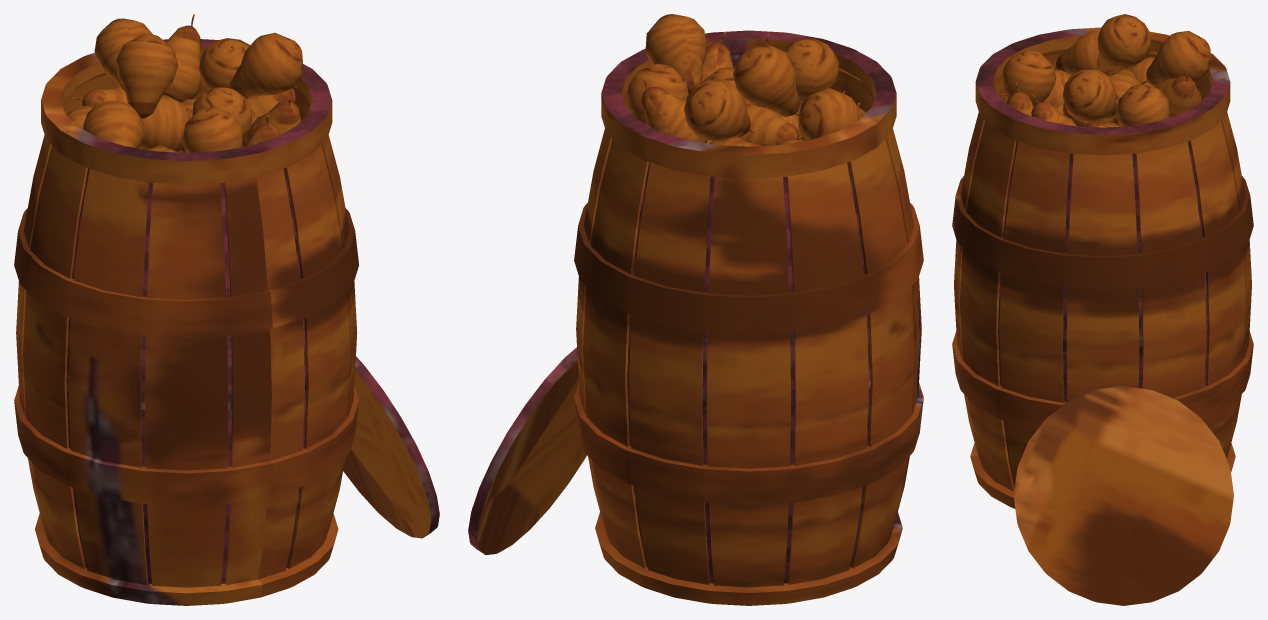
File: fruit barrel_3.fbx
3 renders of one model, left to right at view 1: azimuth 30°, elevation 25°; view 2: azimuth 150°, elevation 25°; view 3: azimuth 270°, elevation 25°, orthographic. The views are drawn at different scales.
Parts seen in each view (by area): view 1: Circle.005, Circle.006, Plane.1077, Plane.1076, Plane.1073, Plane.1075, Plane.1069, Plane.1078, Plane.1071, Plane.1074, Plane.1063, Plane.1068 (+2 smaller); view 2: Circle.005, Circle.006, Plane.1077, Plane.1074, Plane.1076, Plane.1075, Plane.1073, Plane.1069, Plane.1071, Plane.1078, Plane.1068; view 3: Circle.005, Circle.006, Plane.1077, Plane.1074, Plane.1076, Plane.1073, Plane.1071, Plane.1075, Plane.1069, Plane.1078, Plane.1068, Plane.1070 (+1 smaller).
Part boxes in pixels (<box>): Circle.005: <box>14,39,358,605</box>; Circle.006: <box>343,356,439,538</box>; Plane.1077: <box>116,34,178,130</box>; Plane.1076: <box>230,33,303,99</box>; Plane.1073: <box>182,107,242,152</box>; Plane.1075: <box>83,100,143,148</box>; Plane.1069: <box>163,14,201,102</box>; Plane.1078: <box>139,95,190,152</box>; Plane.1071: <box>199,38,250,89</box>; Plane.1074: <box>94,18,152,91</box>; Plane.1063: <box>192,87,251,138</box>; Plane.1068: <box>245,98,300,144</box>; Circle.005: <box>574,30,923,605</box>; Circle.006: <box>468,347,587,554</box>; Plane.1077: <box>733,44,800,116</box>; Plane.1074: <box>684,80,754,141</box>; Plane.1076: <box>645,14,706,93</box>; Plane.1075: <box>798,88,865,140</box>; Plane.1073: <box>783,39,839,111</box>; Plane.1069: <box>641,77,707,143</box>; Plane.1071: <box>628,63,688,124</box>; Plane.1078: <box>739,103,809,145</box>; Plane.1068: <box>702,31,733,82</box>; Circle.005: <box>952,27,1253,508</box>; Circle.006: <box>1013,385,1233,605</box>; Plane.1077: <box>1097,14,1150,73</box>; Plane.1074: <box>1141,31,1211,86</box>; Plane.1076: <box>1062,69,1117,122</box>; Plane.1073: <box>1003,50,1055,106</box>; Plane.1071: <box>1116,84,1169,126</box>; Plane.1075: <box>1054,30,1116,75</box>; Plane.1069: <box>1156,72,1201,117</box>; Plane.1078: <box>1108,68,1140,123</box>; Plane.1068: <box>1031,94,1076,126</box>; Plane.1070: <box>1001,70,1071,105</box>.
Size of the model in its own units: 45.26 by 62.76 by 35.65.
